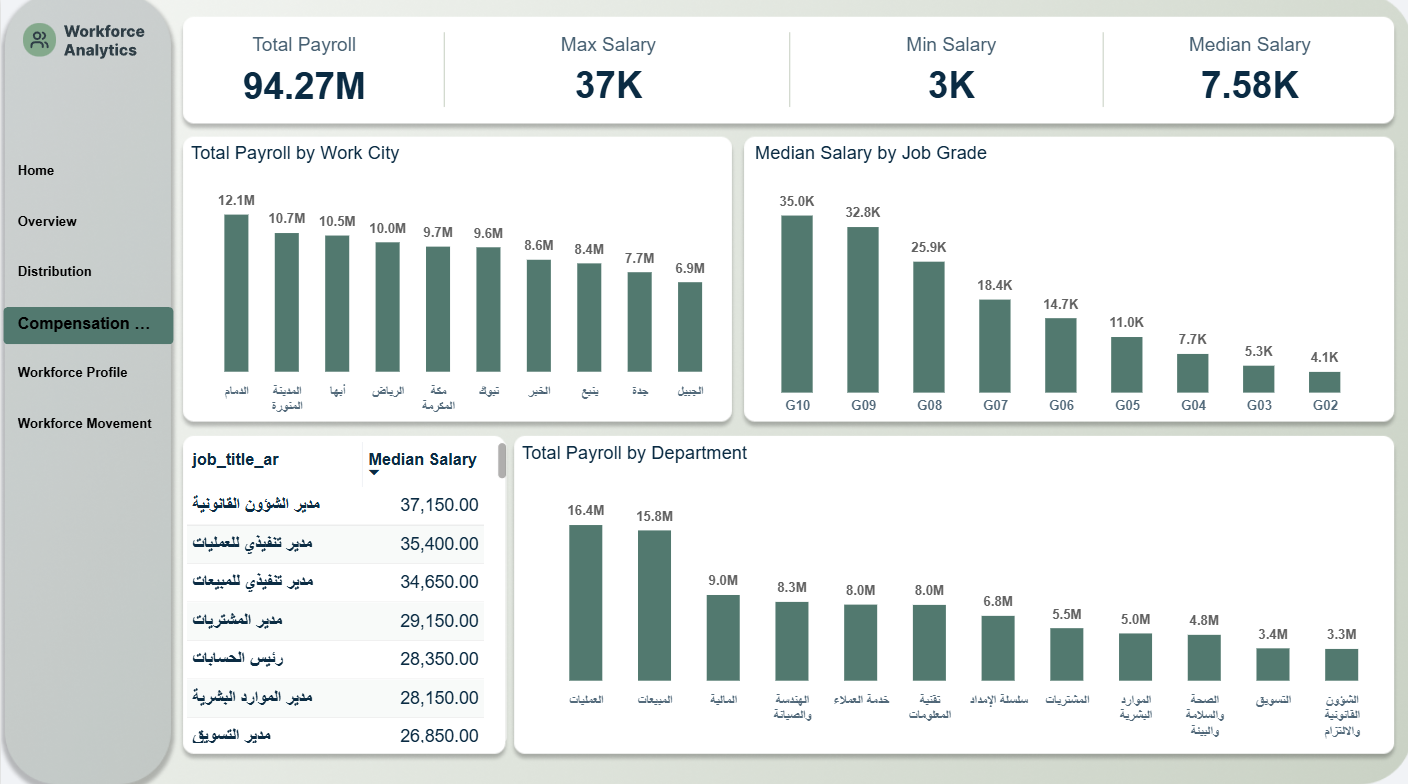

Layout of this report page (visuals, bound fields, positions):
{"tool":"powerbi","page":{"name":"Compensation & Cost","canvas":[1280,720],"ordinal":3},"visuals":[{"type":"cardVisual","fields":{"Data":["measures (2).Measure"]},"box":[188,3.2,175.5,101.8],"z":0},{"type":"cardVisual","fields":{"Data":["measures (2).Median Salary"]},"box":[1041.9,6.2,188,95.8],"z":1000},{"type":"cardVisual","fields":{"Data":["measures (2).max salary"]},"box":[427.4,1.8,250.9,104.6],"z":2000},{"type":"cardVisual","fields":{"Data":["measures (2).min salary"]},"box":[770.5,8,186.2,92.2],"z":3000},{"type":"clusteredColumnChart","title":"Total Payroll by Department","fields":{"Y":["measures (2).Total Payroll"],"Category":["departments.department_name_ar"]},"box":[454,383.1,826.4,313],"z":4000},{"type":"clusteredColumnChart","title":"Median Salary by Job Grade","fields":{"Y":["measures (2).Median Salary"],"Category":["employees.job_grade"]},"box":[665,110,597.6,290.8],"z":5000},{"type":"pivotTable","fields":{"Rows":["employees.job_title_ar"],"Values":["measures (2).Median Salary"]},"box":[149,383.1,330.7,313],"z":6000},{"type":"clusteredColumnChart","title":"Total Payroll by Work City","fields":{"Y":["measures (2).Total Payroll"],"Category":["employees.work_city_ar"]},"box":[152.5,110,524,290.8],"z":7000},{"type":"image","box":[0,0,197.3,76.4],"z":7001},{"type":"pageNavigator","box":[0,140,159.1,270],"z":7002}]}

Visuals, with their boxes on the page's 1280x720 design canvas (x1, y1, x2, y2). These are canvas units, not pixel positions in the 1408x784 screenshot, which may show the page scaled, cropped or inside an application window:
cardVisual - measures (2).Measure: 188, 3, 364, 105
cardVisual - measures (2).Median Salary: 1042, 6, 1230, 102
cardVisual - measures (2).max salary: 427, 2, 678, 106
cardVisual - measures (2).min salary: 770, 8, 957, 100
"Total Payroll by Department" clusteredColumnChart: 454, 383, 1280, 696
"Median Salary by Job Grade" clusteredColumnChart: 665, 110, 1263, 401
pivotTable - employees.job_title_ar x measures (2).Median Salary: 149, 383, 480, 696
"Total Payroll by Work City" clusteredColumnChart: 152, 110, 676, 401
image: 0, 0, 197, 76
pageNavigator: 0, 140, 159, 410
